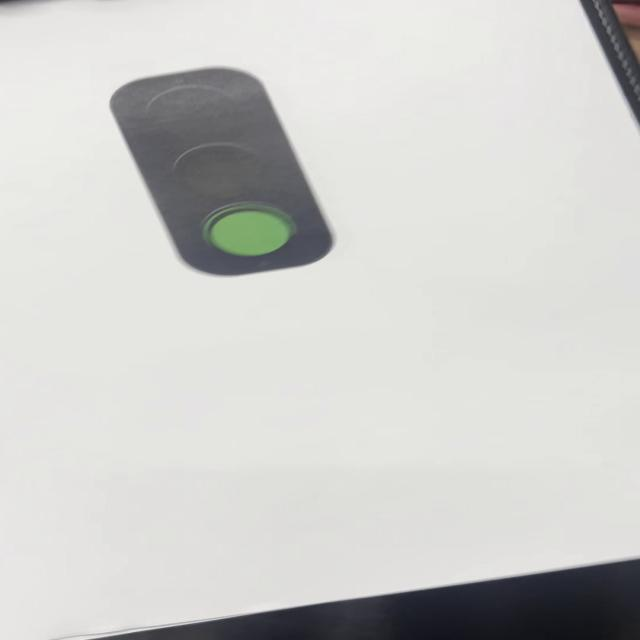green: (114, 68, 342, 279)
